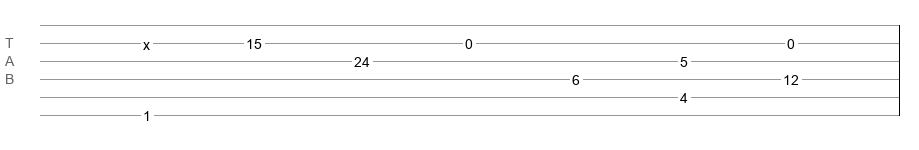0: (465, 36, 473, 46), (787, 36, 795, 46)
1: (143, 108, 151, 118)
12: (783, 72, 799, 82)
15: (246, 36, 262, 46)
24: (354, 54, 370, 64)
4: (680, 90, 688, 100)
5: (680, 54, 688, 64)
6: (572, 72, 580, 82)
x: (143, 37, 150, 45)
